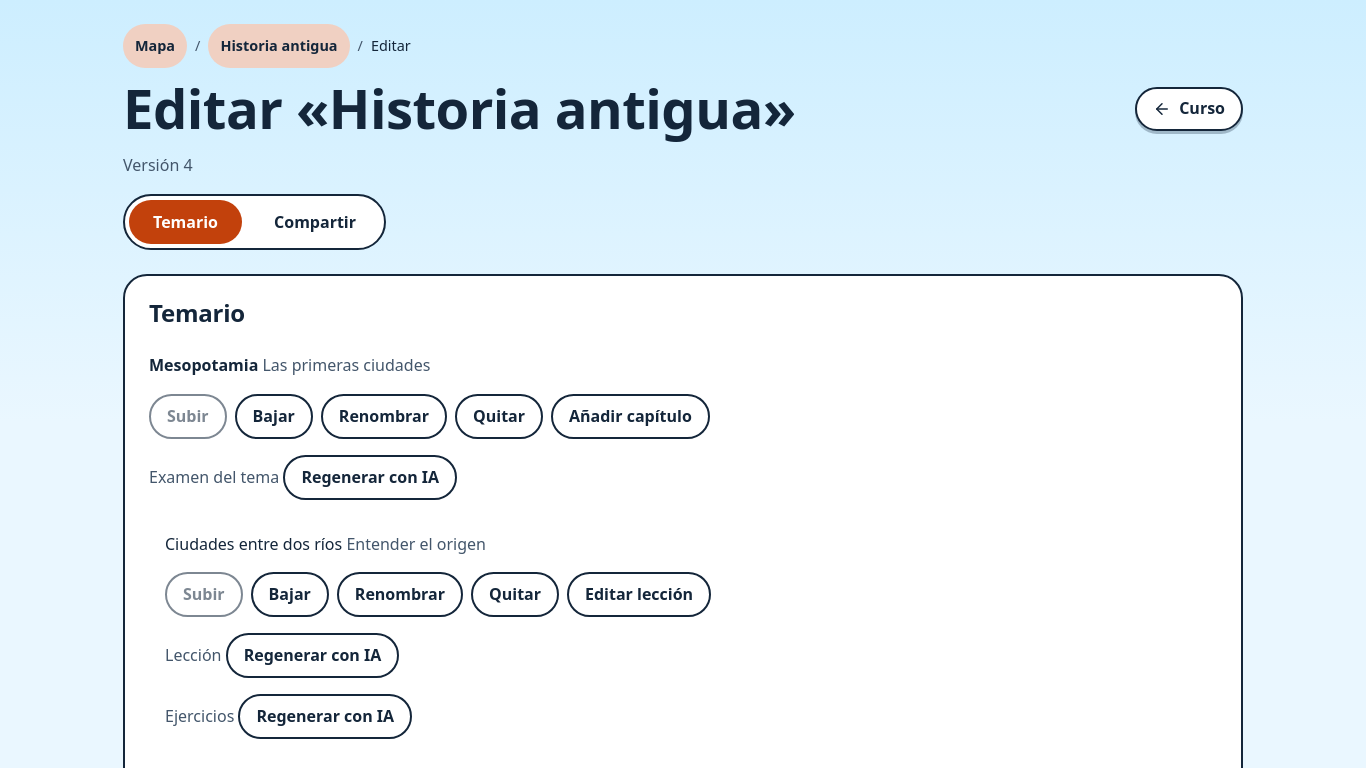
Test: Edición con pestañas y diálogo › asks for confirmation in a modal dialog, never with the browser confirm
The image size is (1366, 768).
Click the 1st button "Quitar" at (499, 416), box [455,394,543,439]
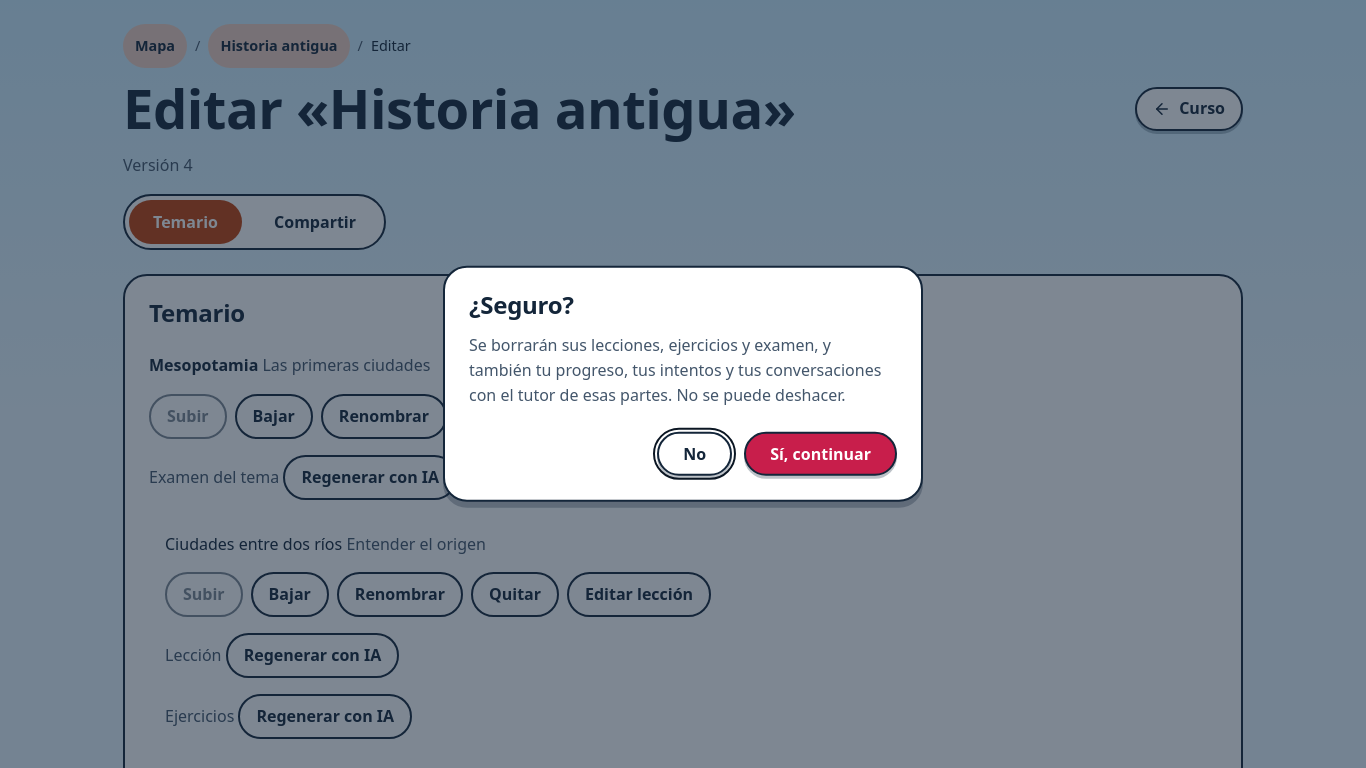
Check: the button with test id "edit-confirm-yes" is shown, box [744,431,897,476]
